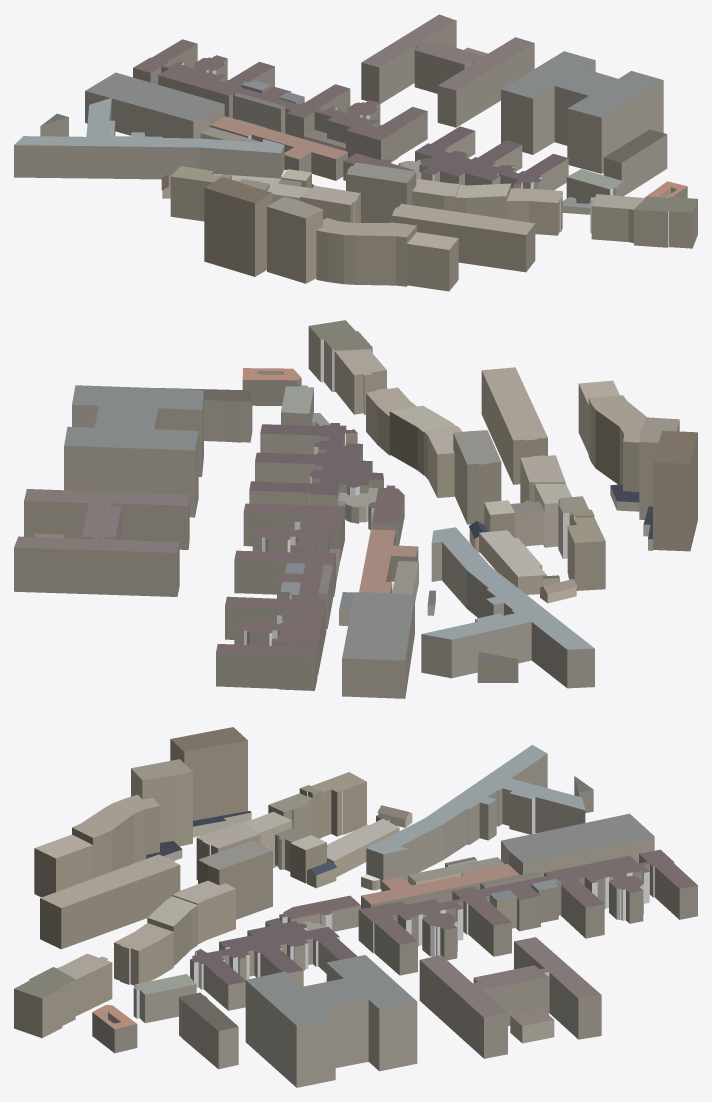
3 renders of one model, top to bottom at view 1: azimuth 30°, elevation 25°; view 2: azimuth 150°, elevation 25°; view 3: azimuth 270°, elevation 25°, orthographic. The views are drawn at different scales.
Visible parts, largest first — view 1: tuile; view 2: tuile; view 3: tuile.
Boxes of the visible parts, x1,y1,x2,y2 form: tuile: (14, 14, 697, 291); tuile: (14, 320, 697, 698); tuile: (14, 727, 697, 1087).
Size of the model in its own units: 319 by 49.68 by 315.
